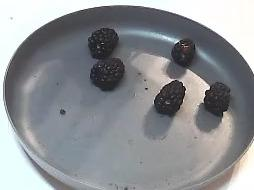berry: (154, 80, 185, 116), (90, 58, 124, 90), (88, 28, 118, 59), (204, 82, 229, 116), (171, 38, 194, 66)
